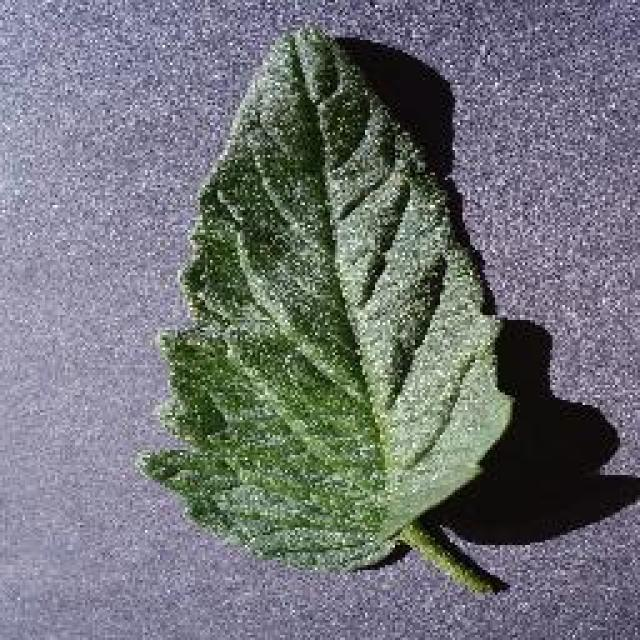Tomato_Healthy: (124, 18, 546, 573)
